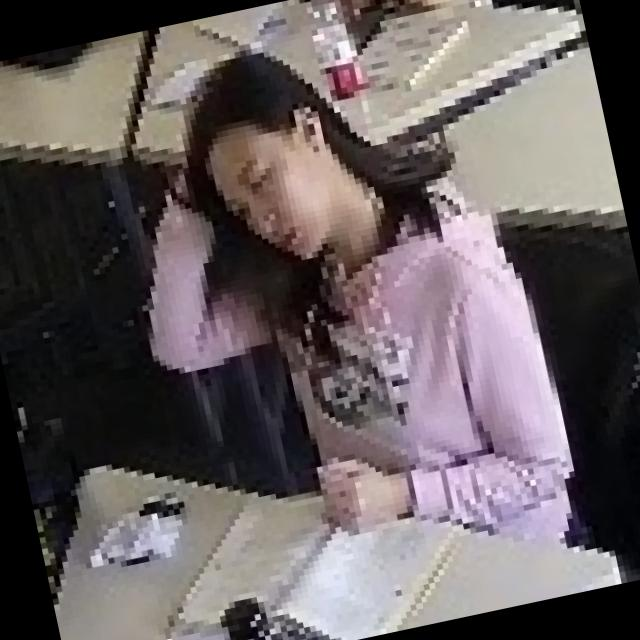trance: (92, 18, 600, 640)
